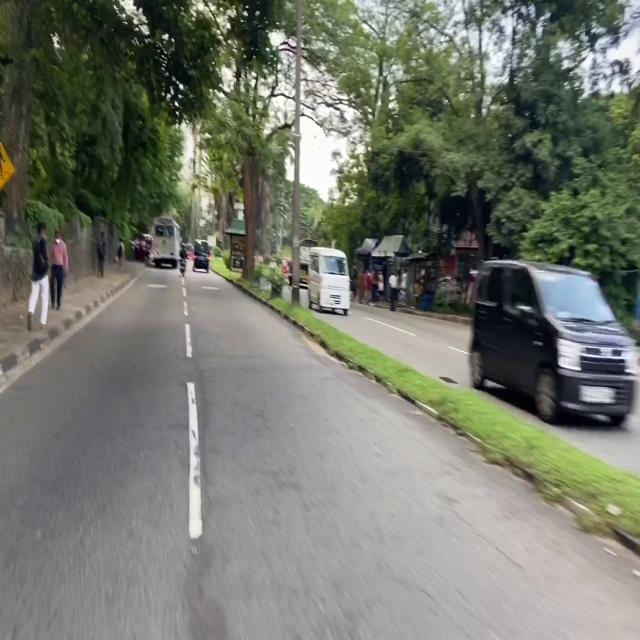bus: (152, 217, 181, 267), (299, 238, 318, 284)
car: (470, 259, 637, 426)
motorcycle: (180, 259, 186, 276)
person: (27, 223, 48, 331), (50, 230, 68, 310), (97, 232, 106, 277), (388, 273, 398, 311), (399, 271, 407, 303), (364, 271, 372, 302), (371, 271, 378, 301), (117, 241, 124, 267), (378, 271, 384, 296), (180, 244, 187, 259)
van: (304, 247, 350, 315), (193, 239, 209, 272)
